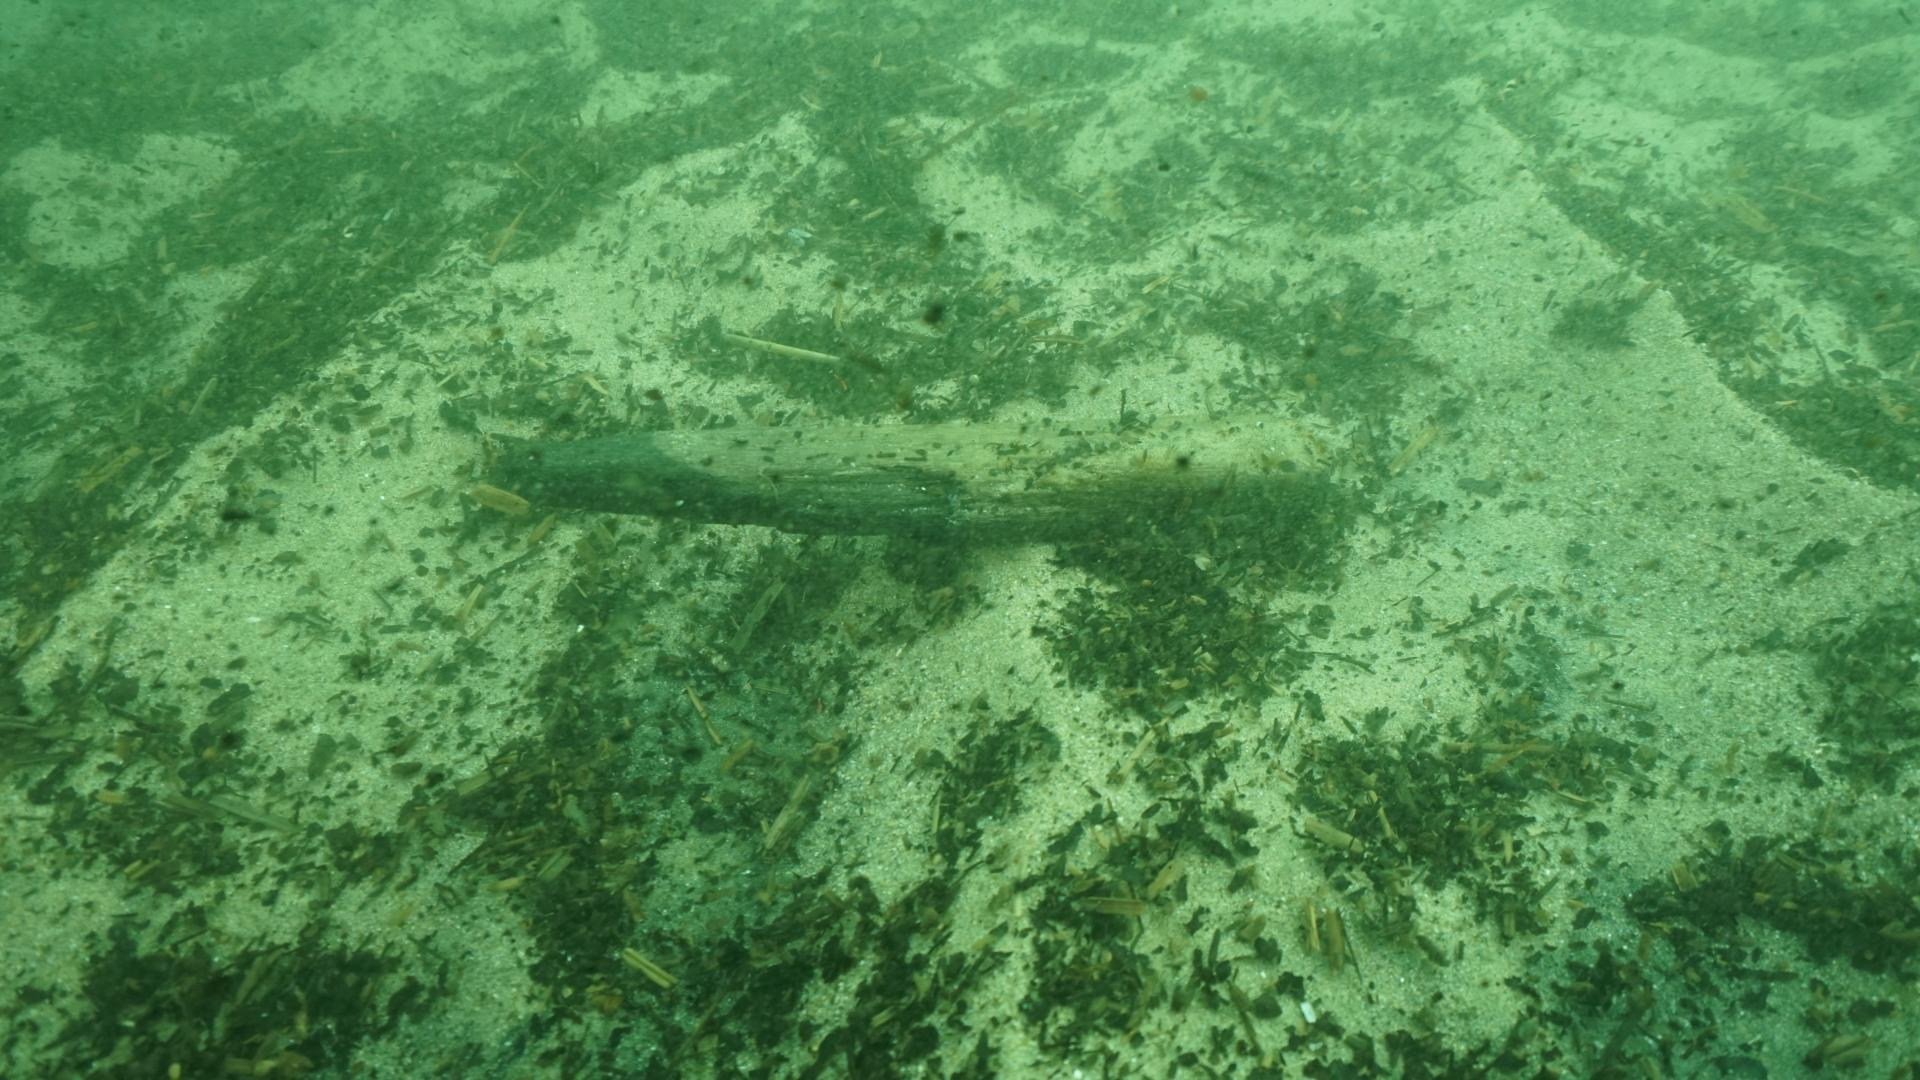wood: (467, 415, 1356, 531)
